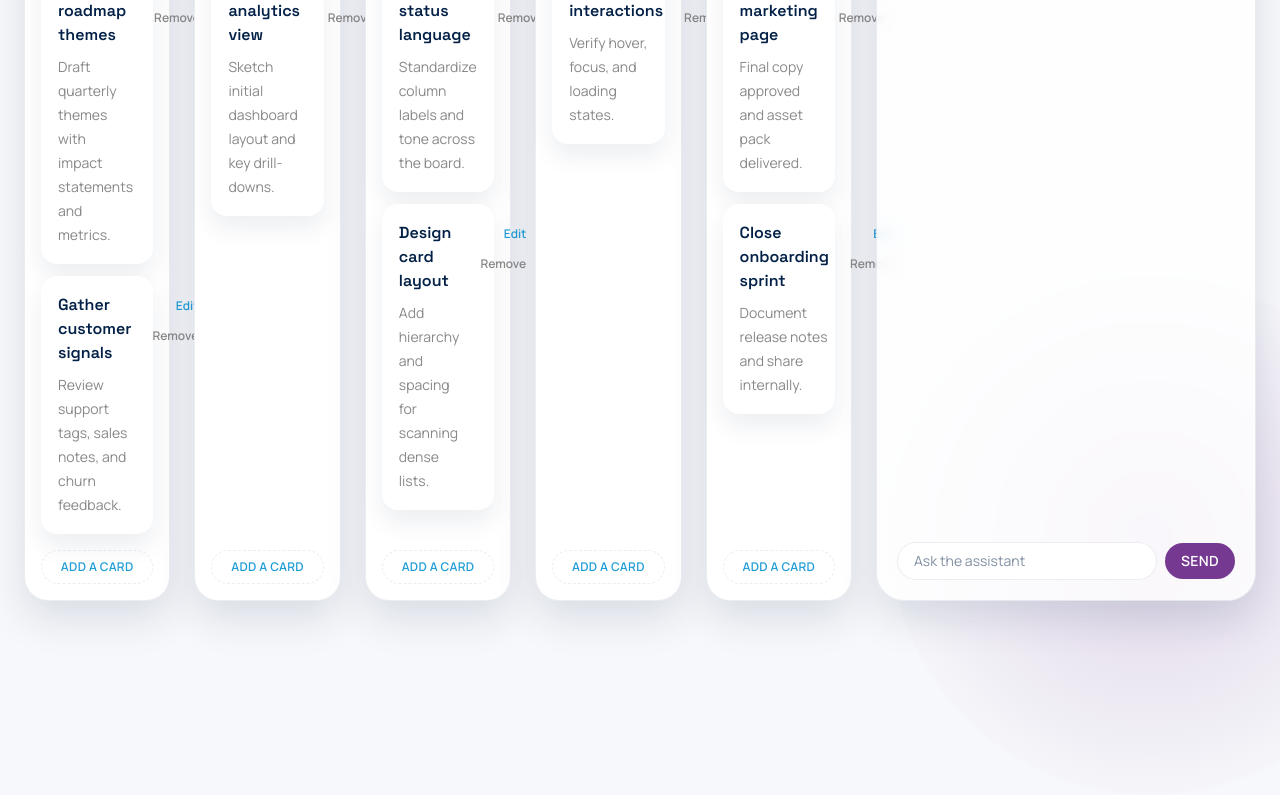
Test case: KanbanBoard › adds and removes a card through the API
The width and height of the screenshot is (1280, 795).
(page scrolled)
Click the 1st button "Add a card".
click(97, 567)  # box [41,550,153,584]
(page scrolled)
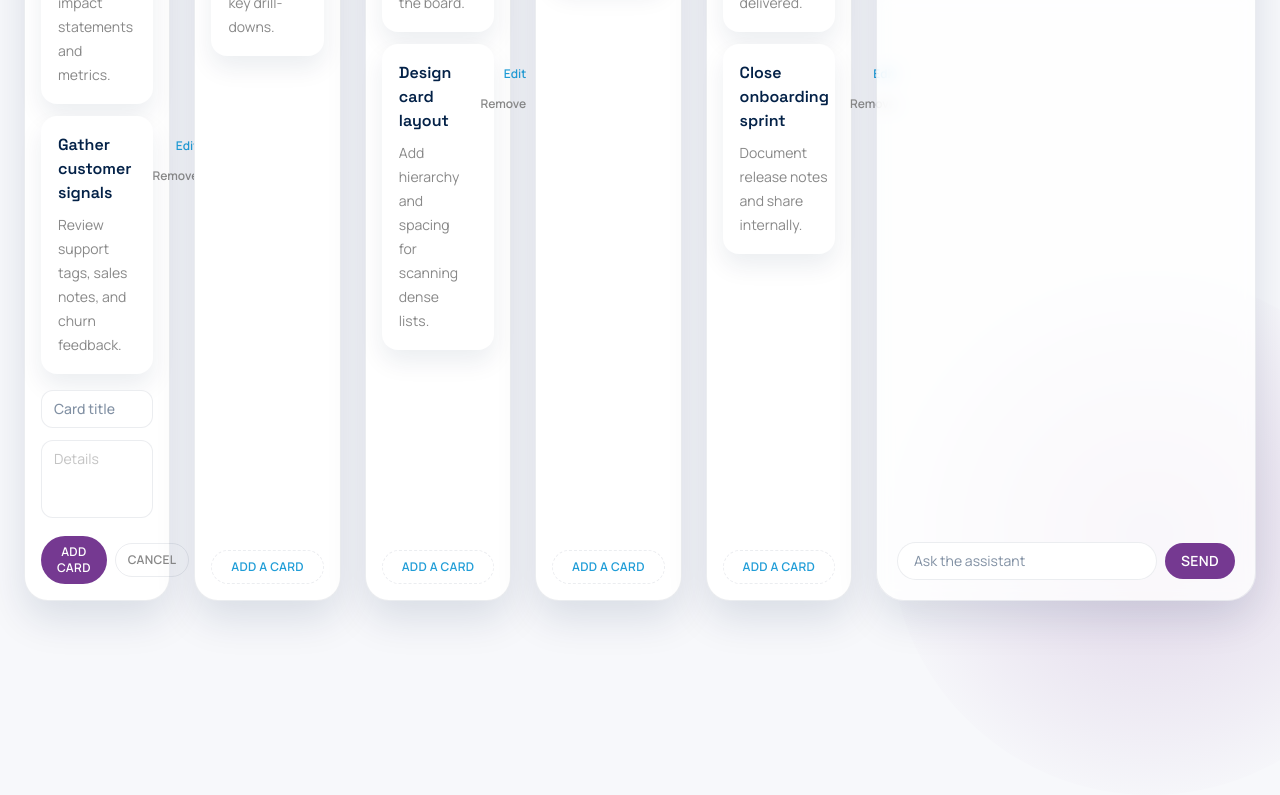
Type "New card" into the field with placeholder "Card title".
click(97, 409); type("New card")  # box [41,390,153,428]
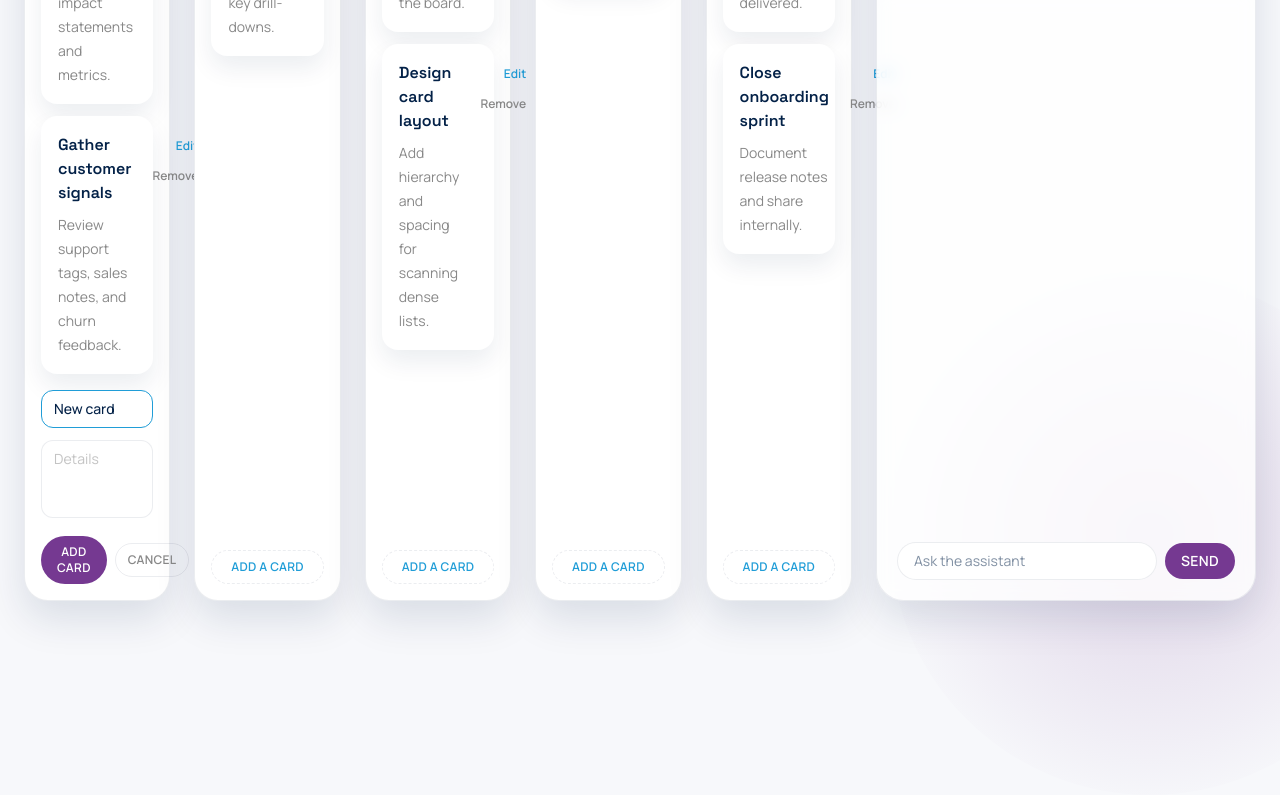
Type "Notes" into the text box with placeholder "Details".
click(97, 479); type("Notes")  # box [41,440,153,518]
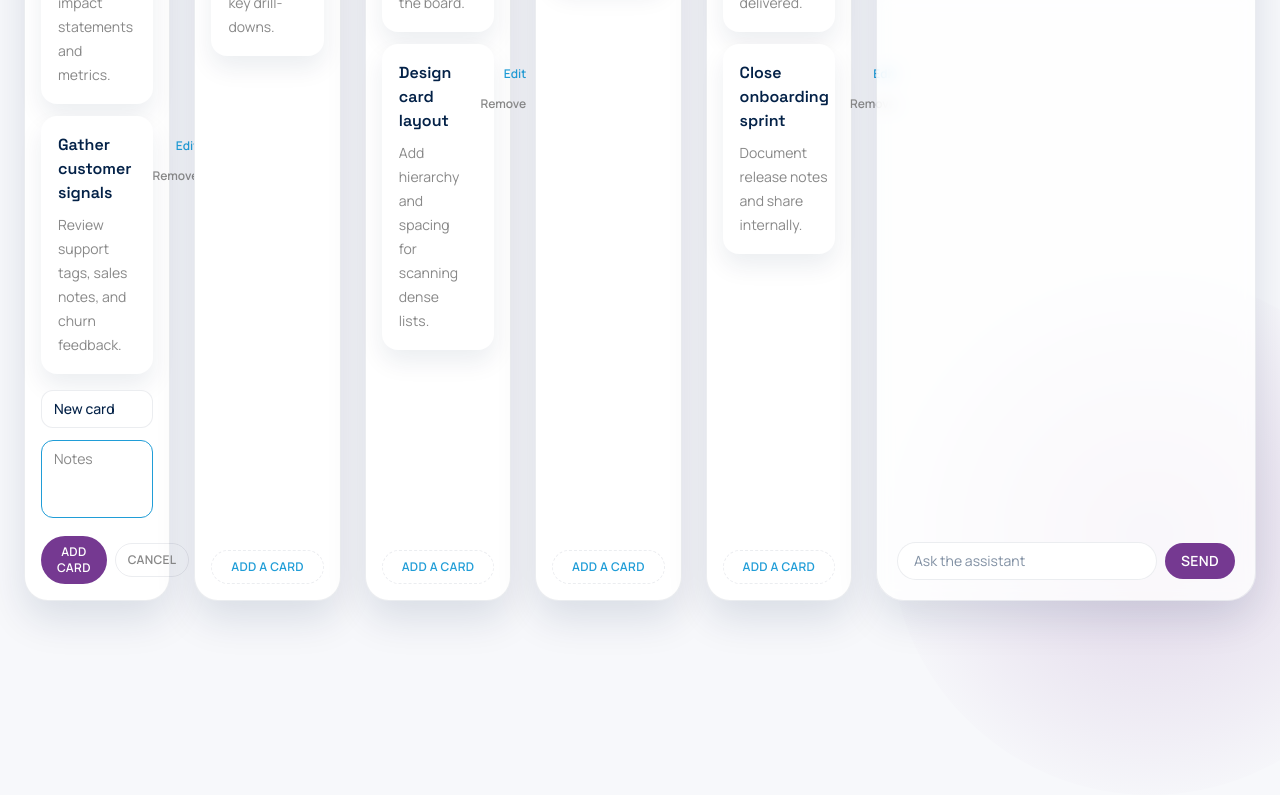
Click the button "Add card".
click(74, 560)  # box [41,536,107,584]
(page scrolled)
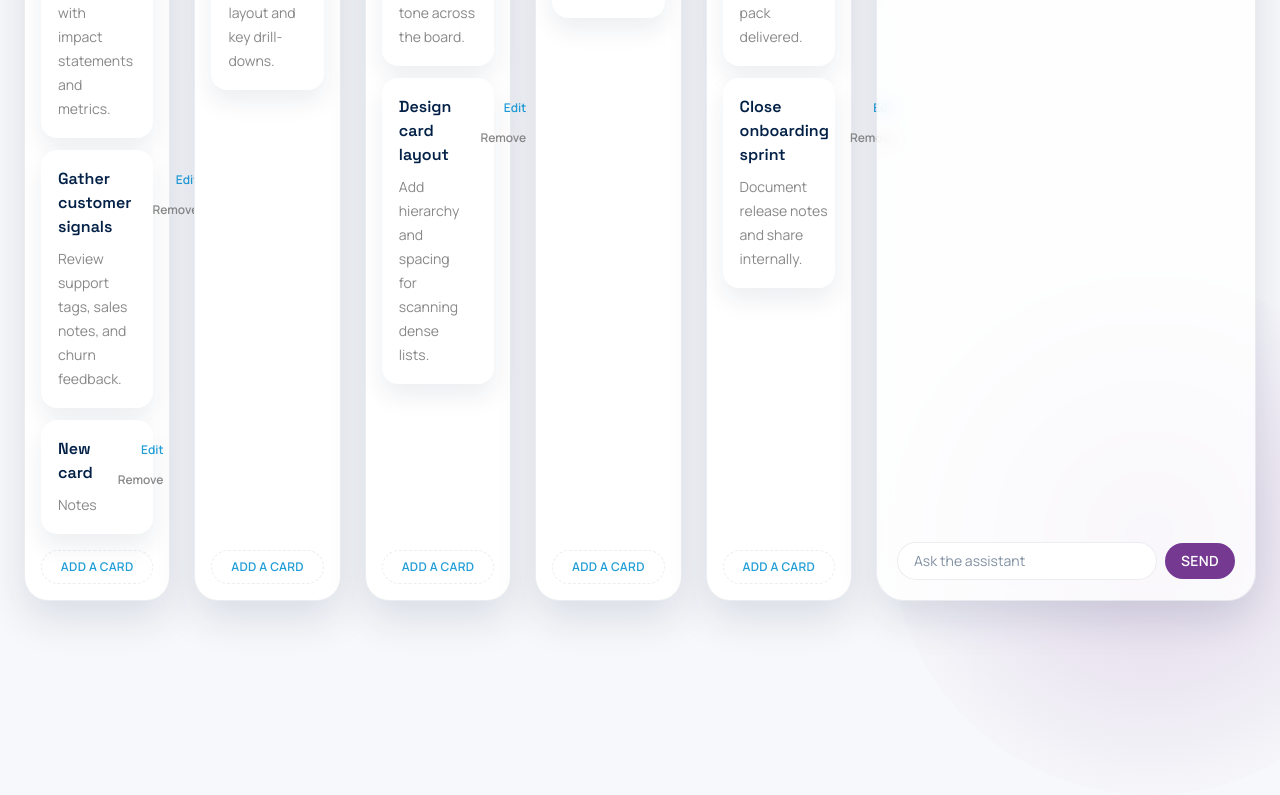
Now the heading "New card" is shown, box [58,437,97,485]
Click the button with aria-label "delete new card".
click(141, 480)  # box [109,467,172,493]
(page scrolled)
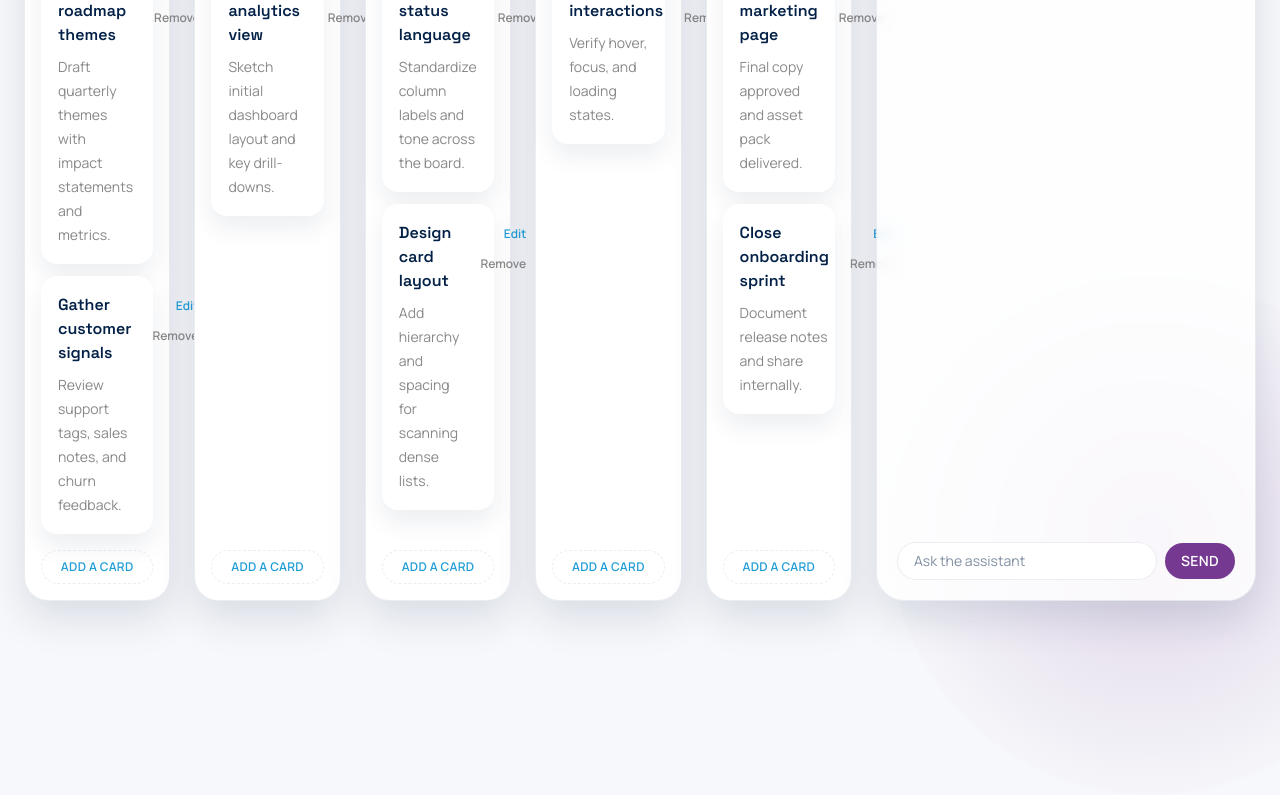
Now the button "New card" is gone
